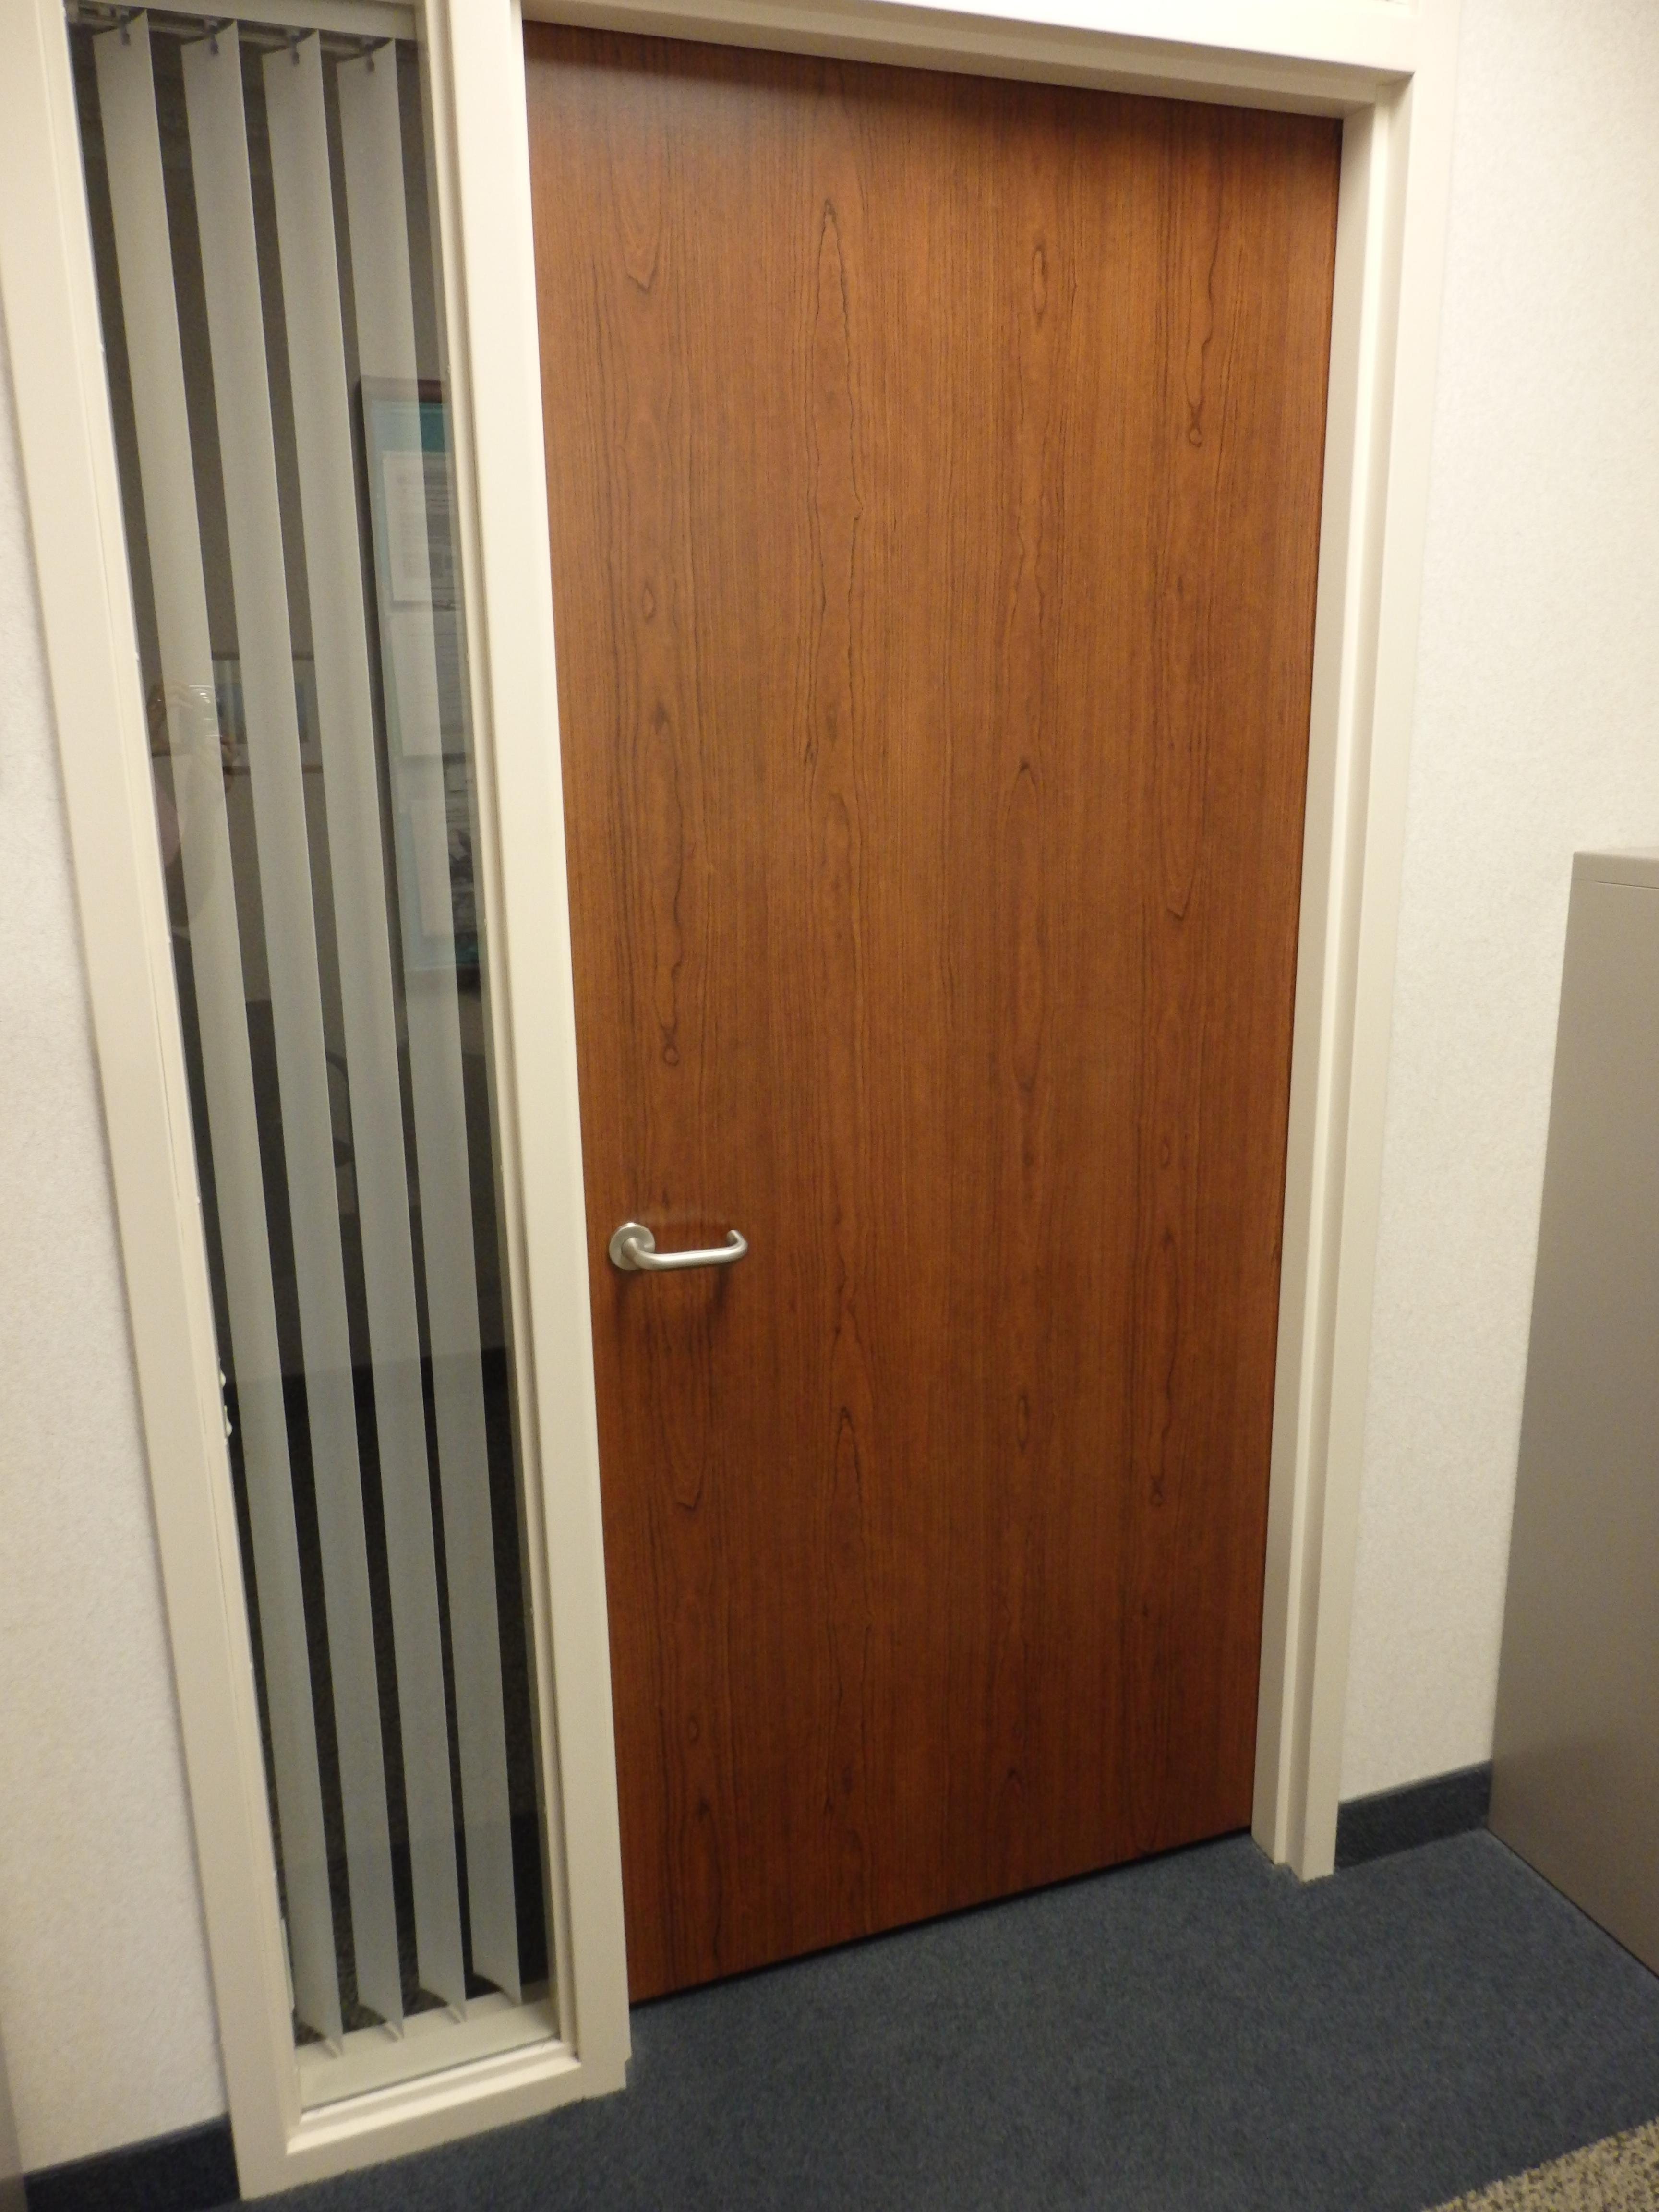handle: (624, 1170, 765, 1315)
